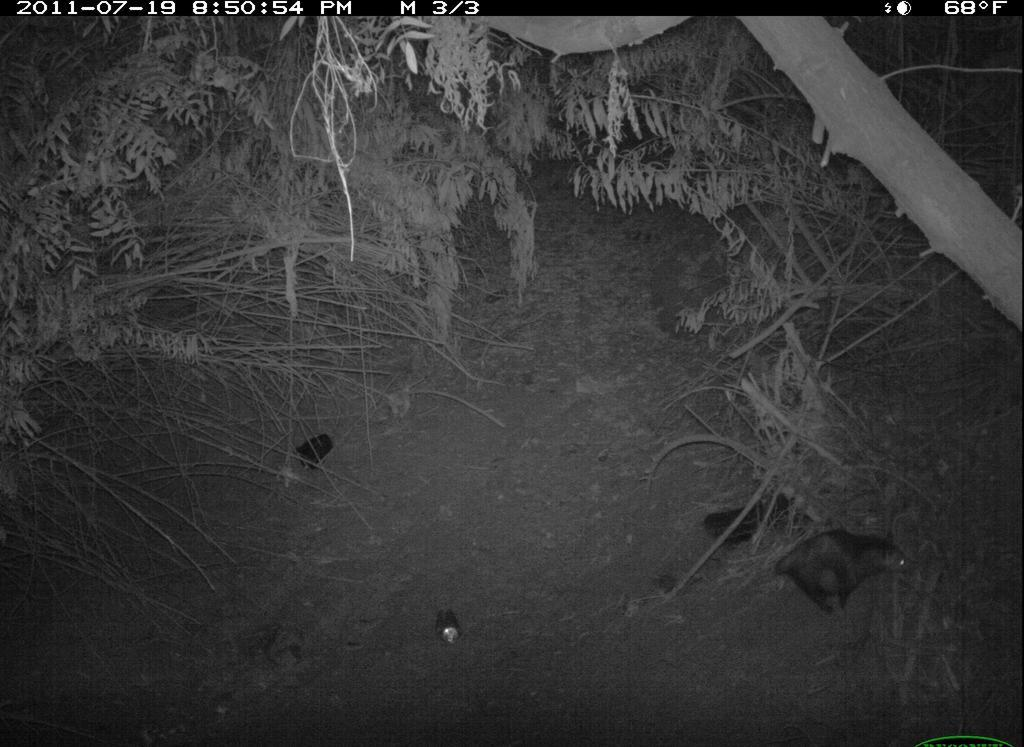opossum: (739, 520, 929, 630)
